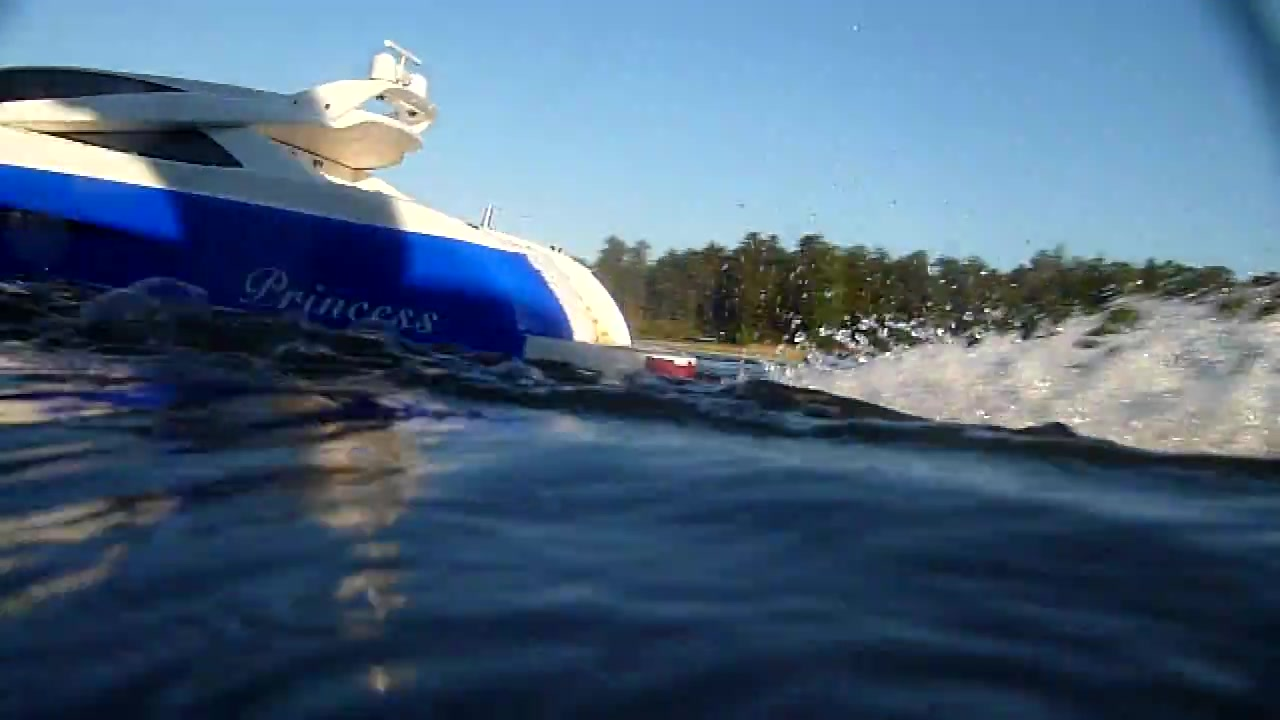boat: (1, 34, 634, 378)
